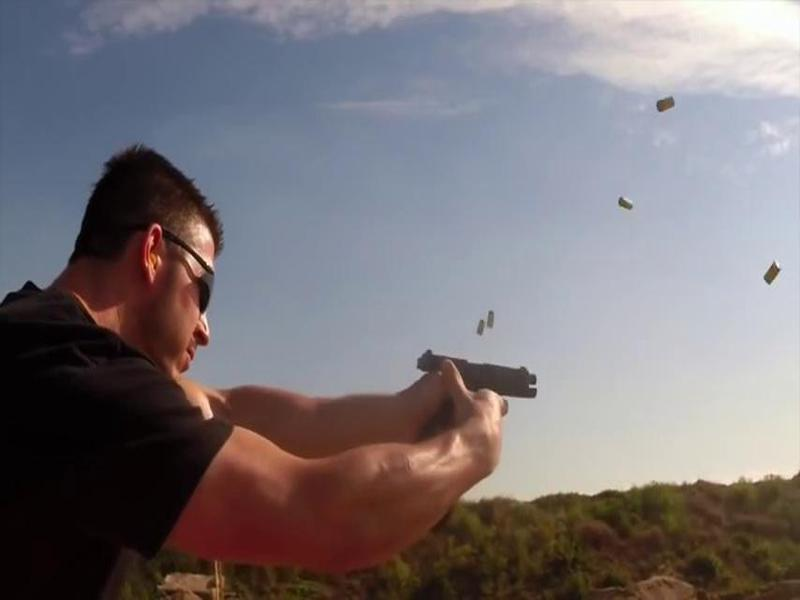Pistola: (403, 341, 553, 465)
